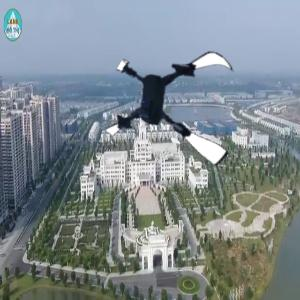drone: (107, 38, 247, 178)
